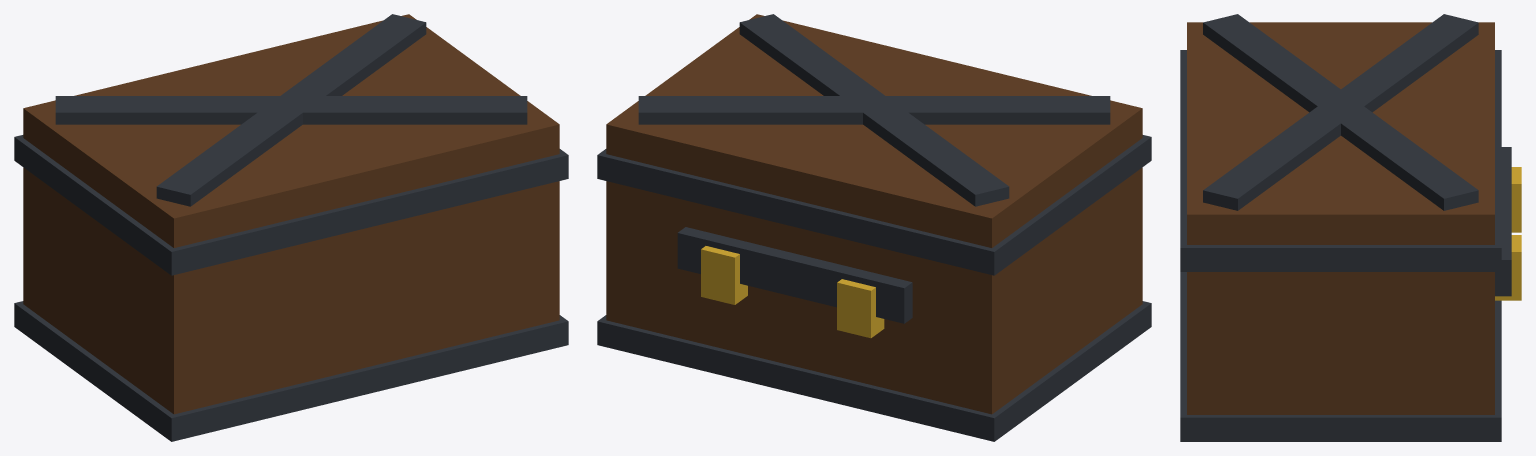
File: dungeon_chest_variant_c.obj
3 views of the same model, side by side, from view 1: azimuth 30°, elevation 25°; view 2: azimuth 150°, elevation 25°; view 3: azimuth 270°, elevation 25° (orthographic). The views are drawn at different scales.
Parts seen in each view (by area): view 1: dungeon_chest_variant_c; view 2: dungeon_chest_variant_c; view 3: dungeon_chest_variant_c.
Part boxes in pixels (box(x1,y1,x2,y2)): dungeon_chest_variant_c: box(14, 14, 568, 441); dungeon_chest_variant_c: box(597, 14, 1151, 441); dungeon_chest_variant_c: box(1180, 14, 1521, 441).
Bounding box in the file's own units: 0.7 × 0.39 × 0.51.
